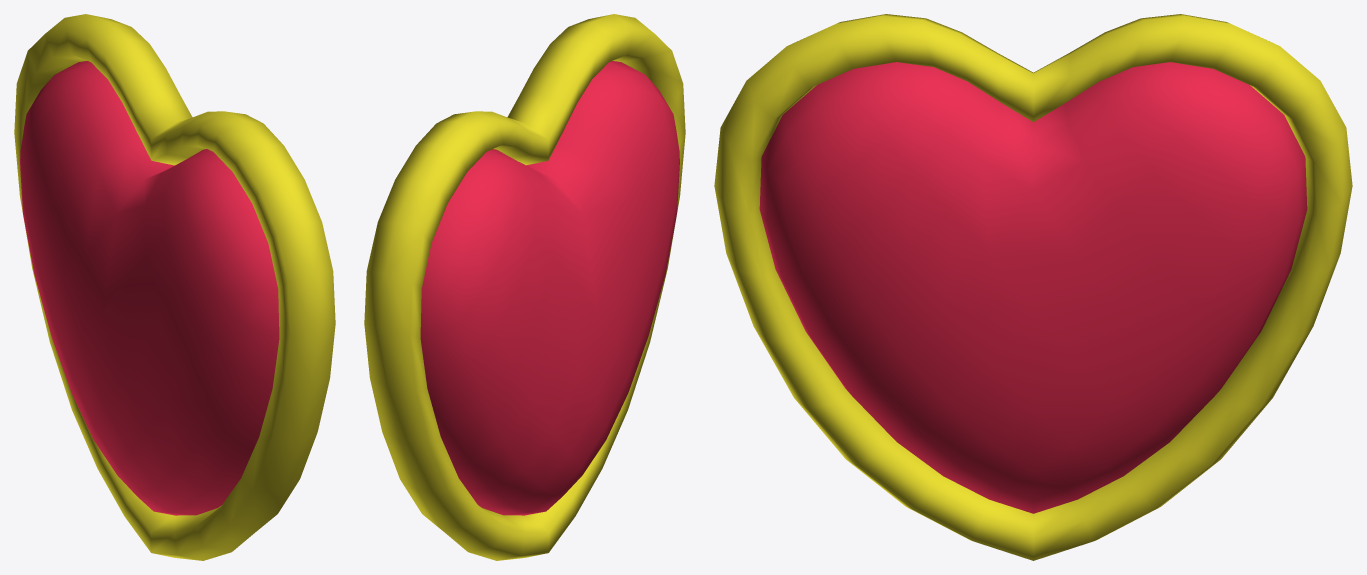
The model's file is valentines-heart-lod0.glb.
The picture shows the model from 3 angles, left to right: view 1: azimuth 30°, elevation 25°; view 2: azimuth 150°, elevation 25°; view 3: azimuth 270°, elevation 25°; orthographic projection. The views are drawn at different scales.
Parts seen in each view (by area): view 1: Heart; view 2: Heart; view 3: Heart.
Part boxes in pixels (box(x1,y1,x2,y2)): Heart: box(14, 14, 335, 560); Heart: box(364, 14, 685, 560); Heart: box(714, 14, 1352, 560).
Bounding box in the file's own units: 1.79 × 5.73 × 6.09.
2 materials, 2 textured.
